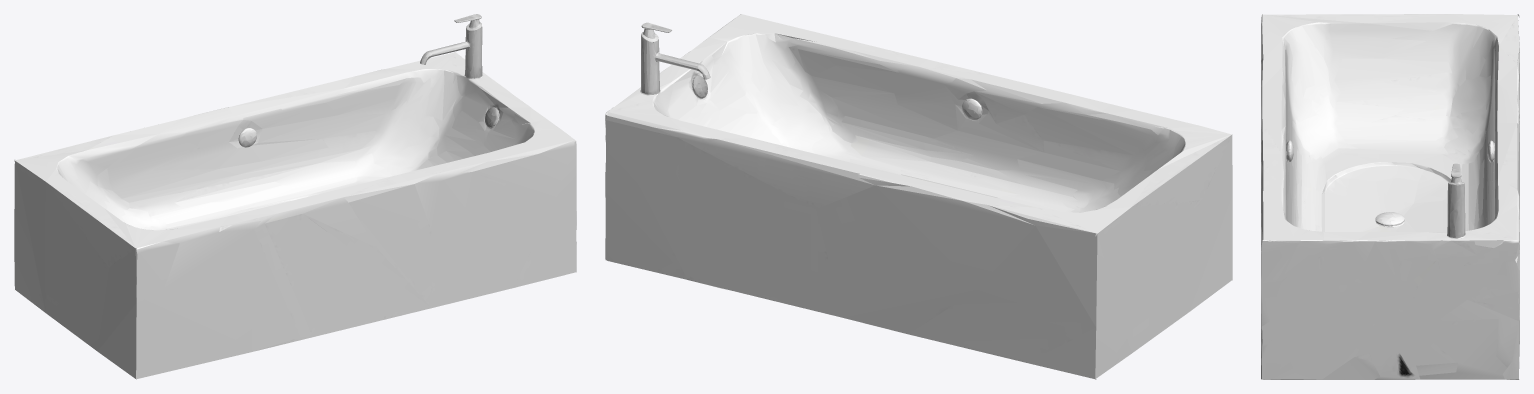
File: bathtub.glb
The picture shows the model from 3 angles, left to right: view 1: azimuth 30°, elevation 25°; view 2: azimuth 150°, elevation 25°; view 3: azimuth 270°, elevation 25°; orthographic projection. The views are drawn at different scales.
Size of the model in its own units: 1.9 by 0.7885 by 0.9158.
Materials: 1 (1 with a texture image).
